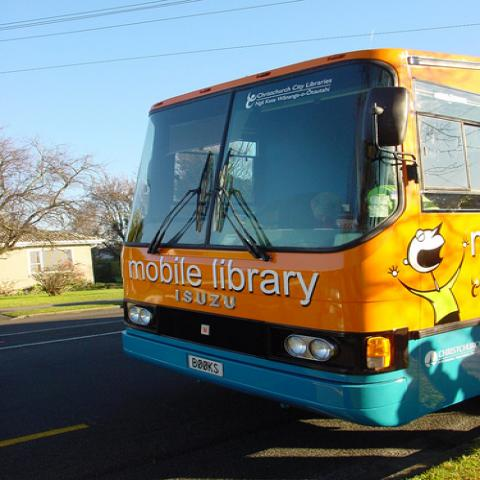bus: (120, 49, 479, 429)
